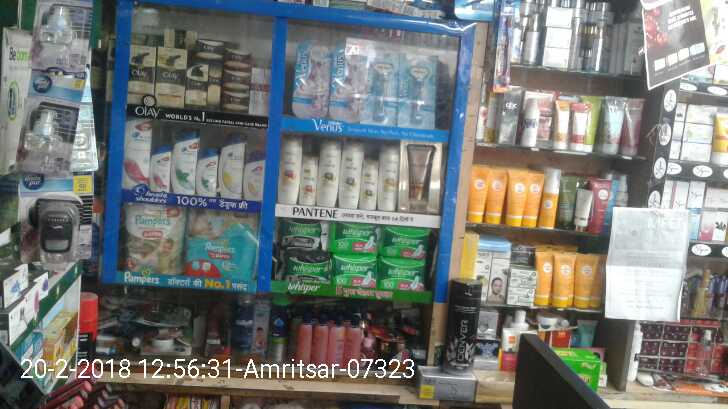ambipureVesus: (18, 74, 87, 168), (19, 169, 77, 261)
venus: (329, 43, 366, 119), (399, 56, 437, 128), (295, 40, 329, 119), (368, 49, 399, 128)
